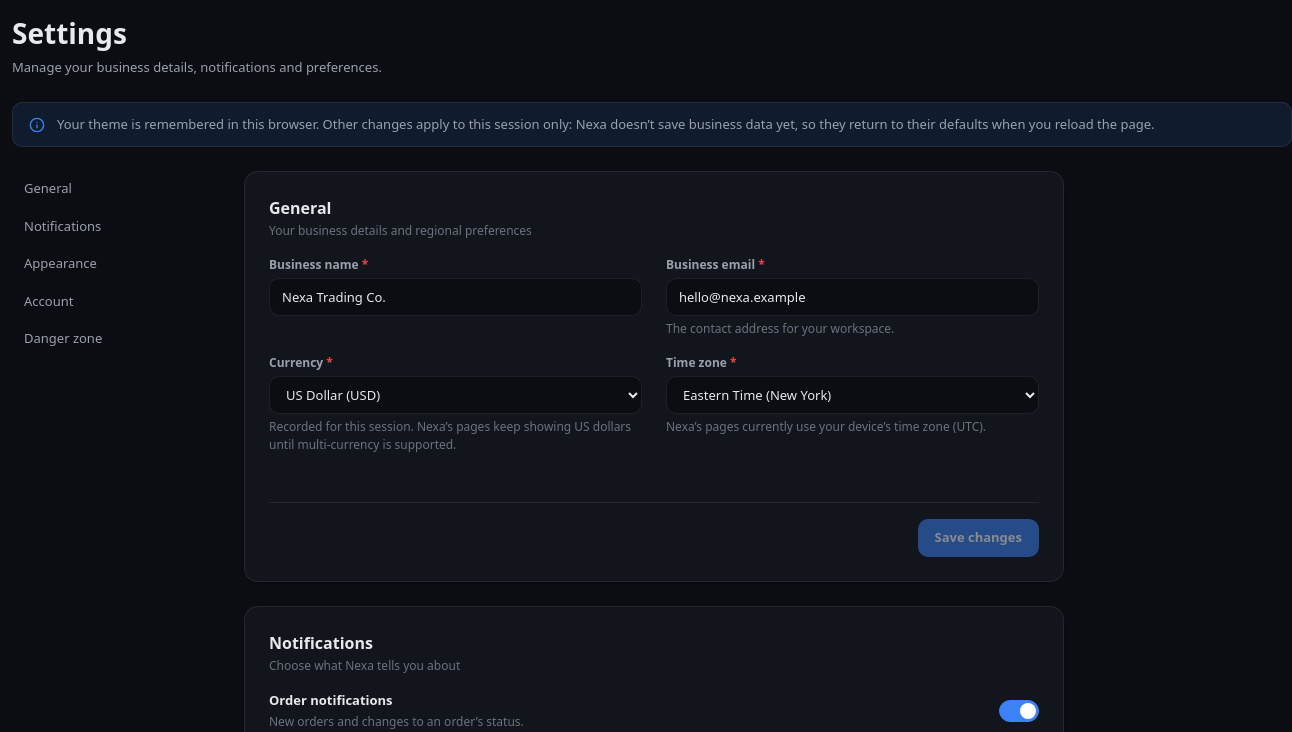
Scenario: General settings › the confirmation goes away as soon as you edit again
The image size is (1292, 732).
Replace the text in the field labelled "Business name" with "Acme Trading" at (456, 297), box [269, 278, 642, 316]
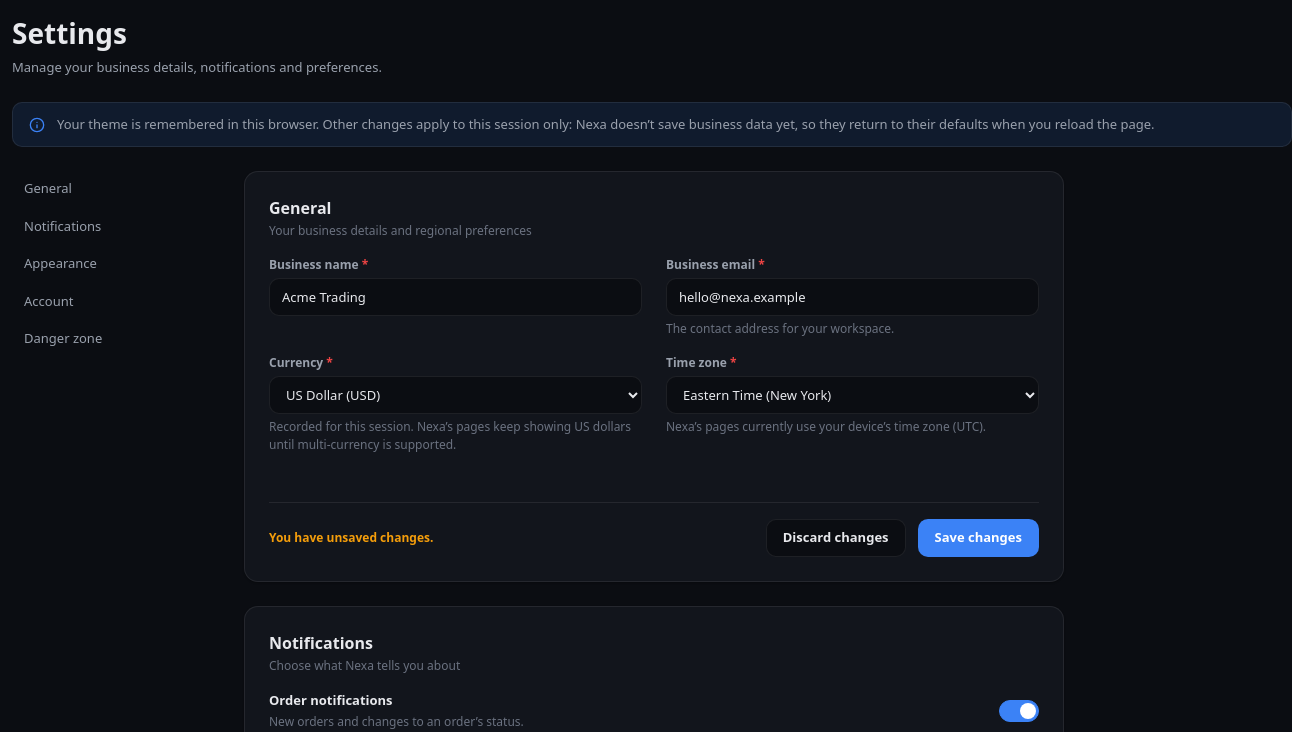
Click the button "Save changes".
click(978, 538)  # box [918, 519, 1039, 557]
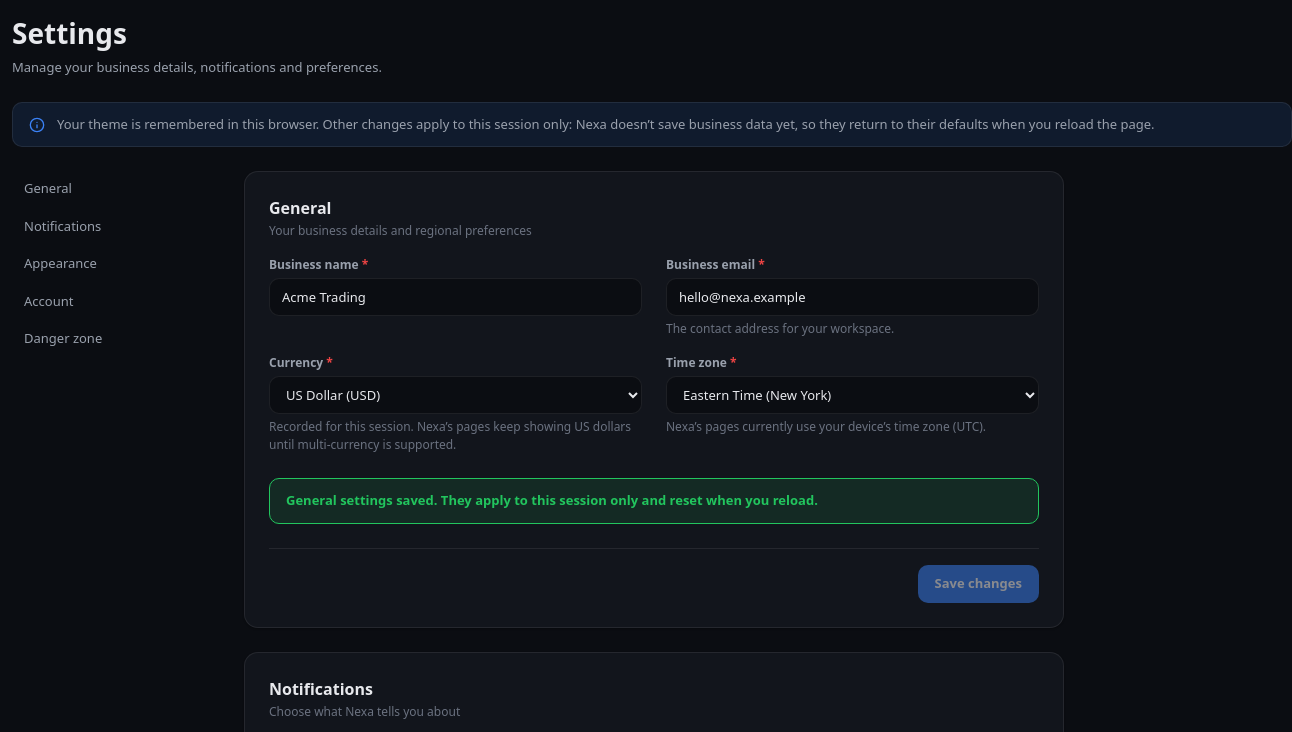
Result: the text "General settings saved" is shown at [286, 491, 818, 509]
Replace the text in the field labelled "Business name" with "Acme Trading Ltd" at (456, 297), box [269, 278, 642, 316]
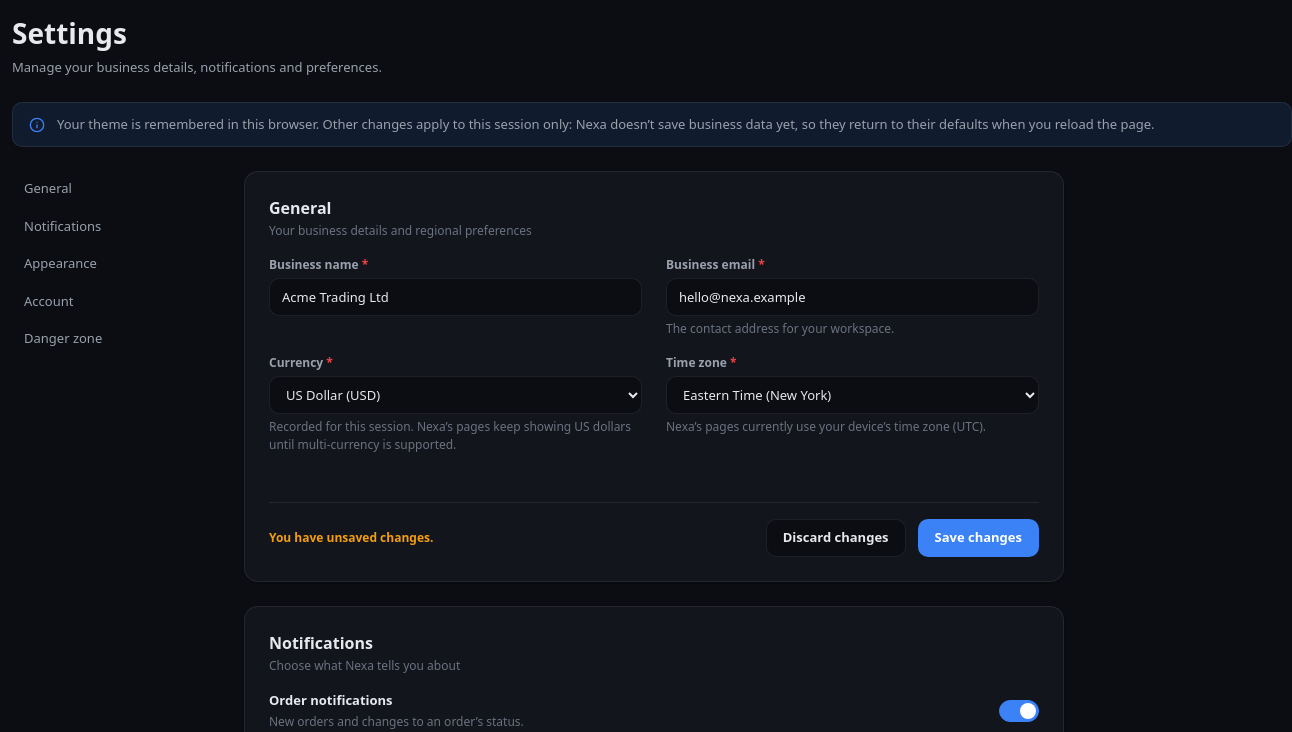
Result: the text "General settings saved" is gone
Result: the button "Save changes" is enabled at [918, 519, 1039, 557]
